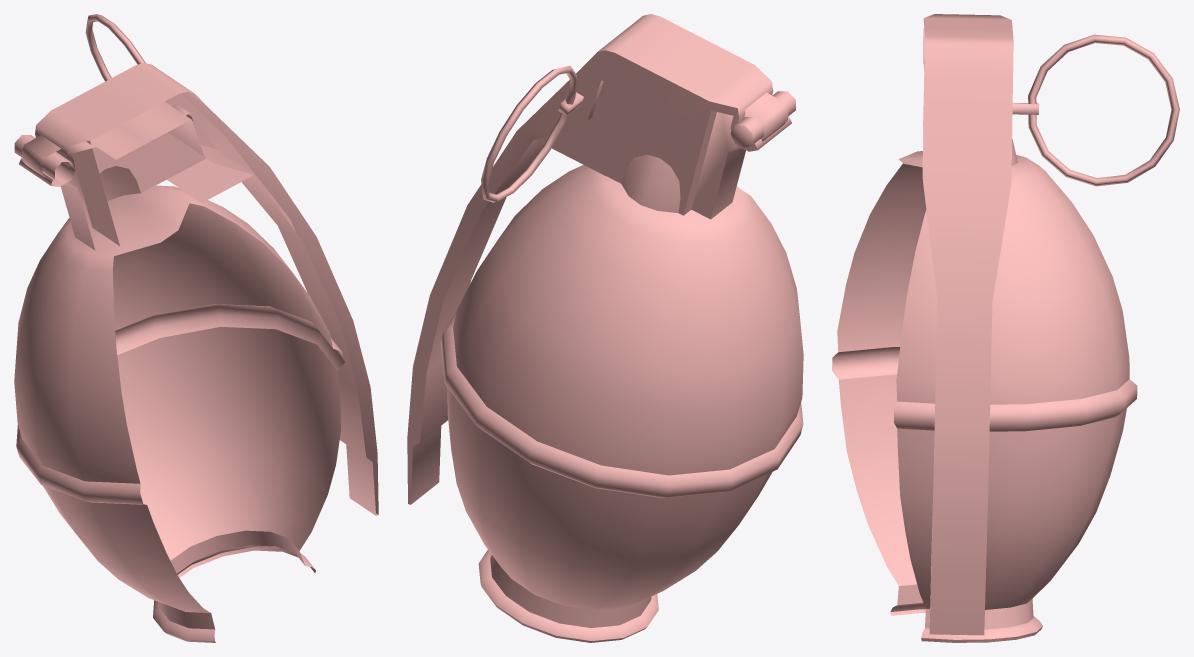
File: GranadeModel.fbx
3 renders of one model, left to right at view 1: azimuth 30°, elevation 25°; view 2: azimuth 150°, elevation 25°; view 3: azimuth 270°, elevation 25°, orthographic. The views are drawn at different scales.
Parts seen in each view (by area): view 1: fraggrenade_reference; view 2: fraggrenade_reference; view 3: fraggrenade_reference.
Boxes of the visible parts, <box> form: fraggrenade_reference: <box>14,14,378,642</box>; fraggrenade_reference: <box>407,14,803,642</box>; fraggrenade_reference: <box>832,14,1179,642</box>.
Bounding box in the file's own units: 277 × 447 × 241.
